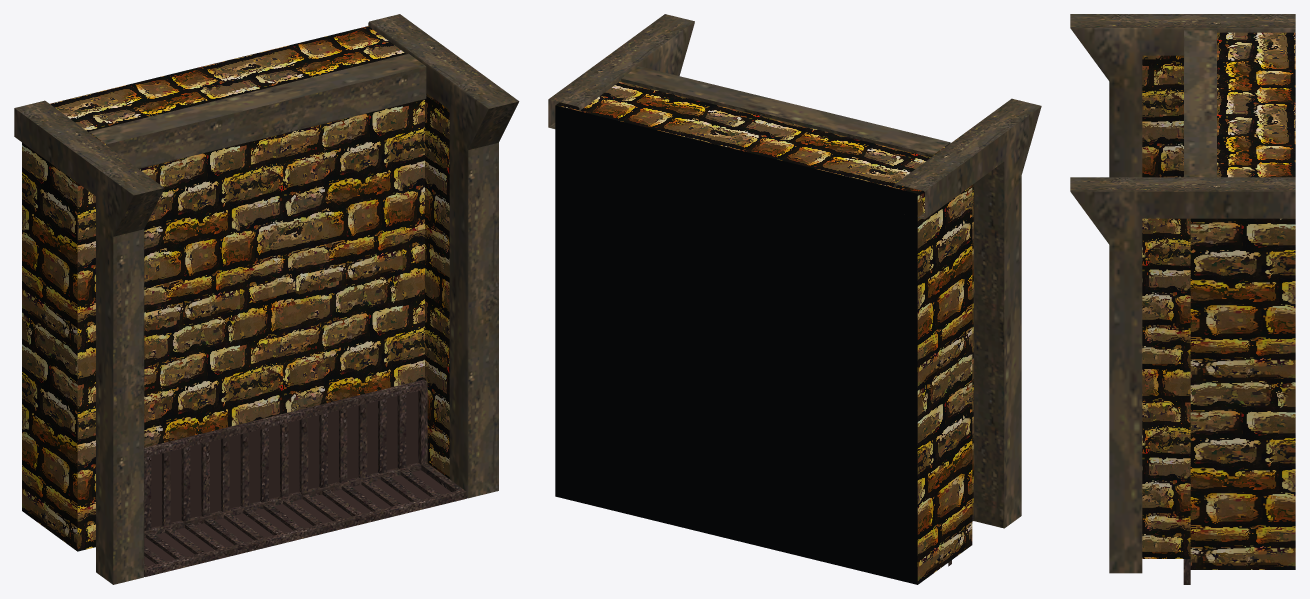
Rendered from stoneWallI.fbx.
The picture shows the model from 3 angles, left to right: view 1: azimuth 30°, elevation 25°; view 2: azimuth 150°, elevation 25°; view 3: azimuth 270°, elevation 25°; orthographic projection. The views are drawn at different scales.
Visible parts, largest first — view 1: stoneWallI; view 2: stoneWallI; view 3: stoneWallI.
Part boxes in pixels (<box>): stoneWallI: <box>14,14,519,584</box>; stoneWallI: <box>548,14,1041,584</box>; stoneWallI: <box>1070,14,1295,584</box>.
Size of the model in its own units: 300 by 322 by 161.
